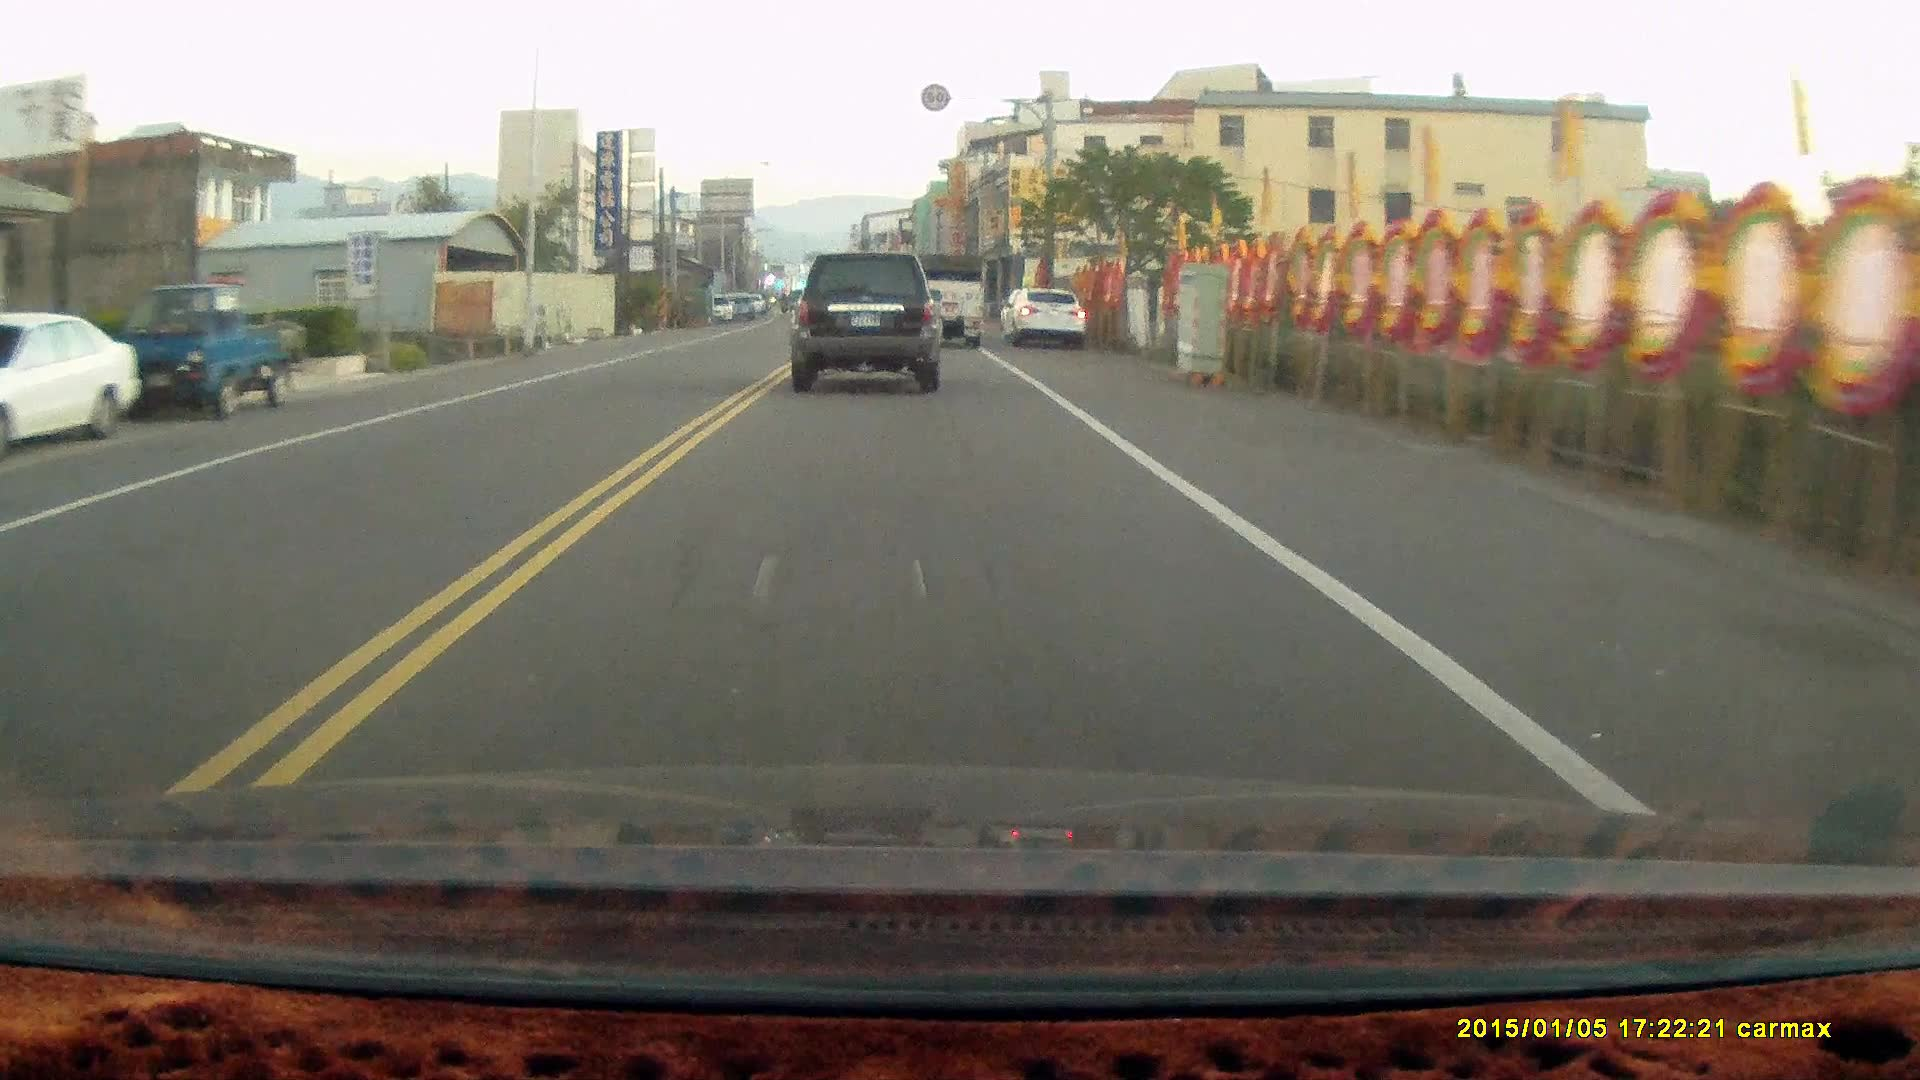vehicle: (115, 284, 303, 425), (793, 258, 943, 401), (1, 310, 138, 448), (913, 252, 989, 349), (1006, 286, 1091, 349)
